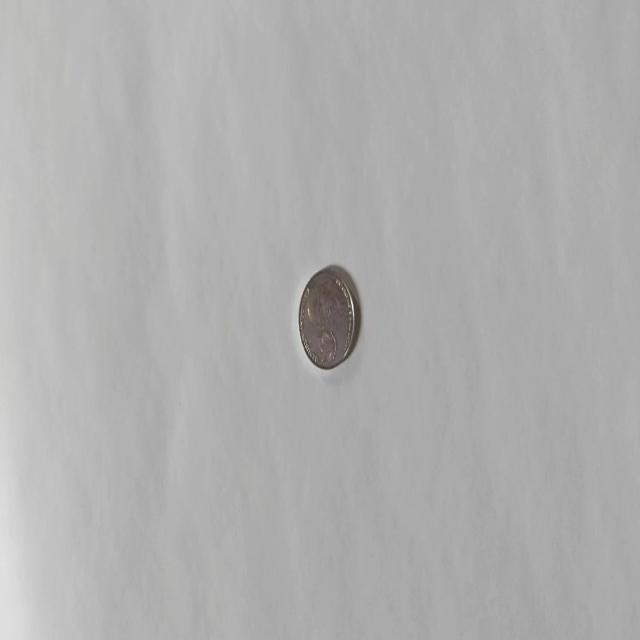lima ratus rupiah: (296, 265, 356, 370)
